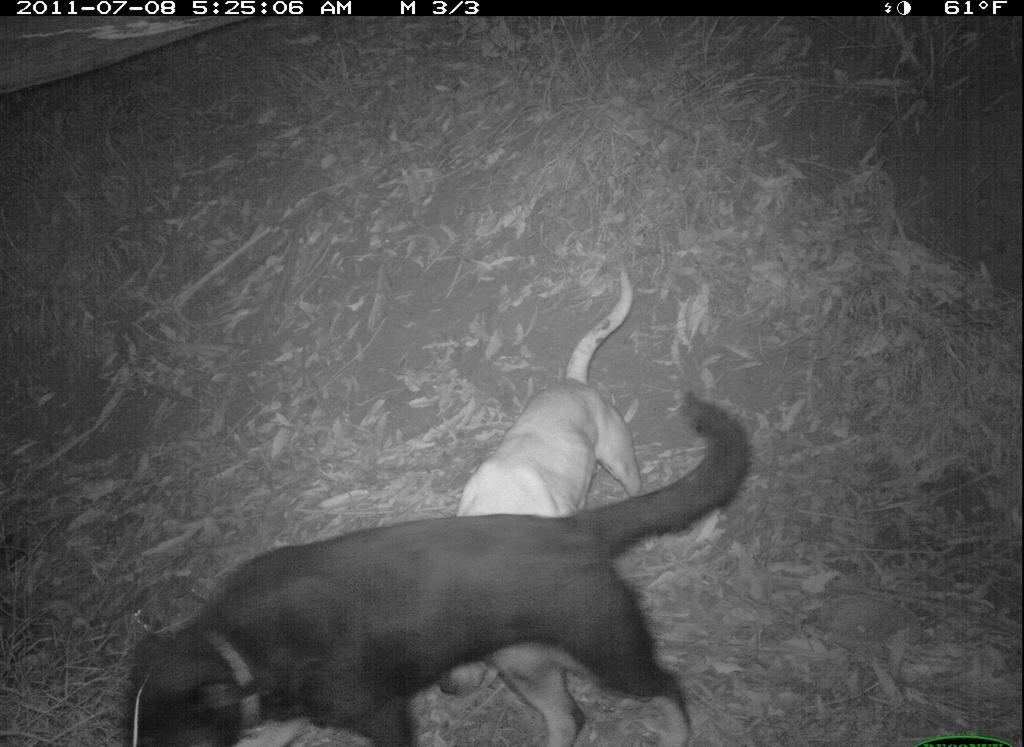dog: (111, 383, 763, 747), (417, 254, 670, 708)
